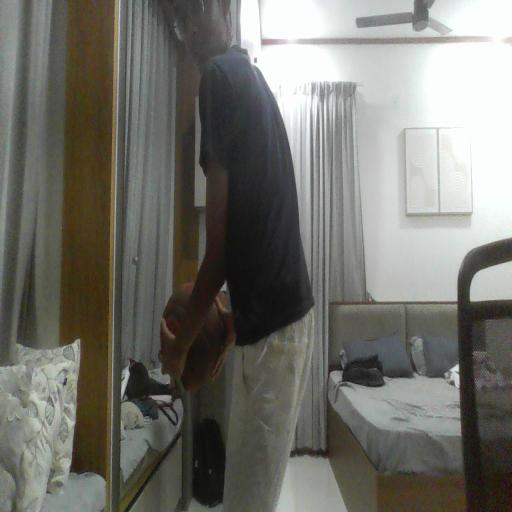basketball: (182, 303, 223, 391)
